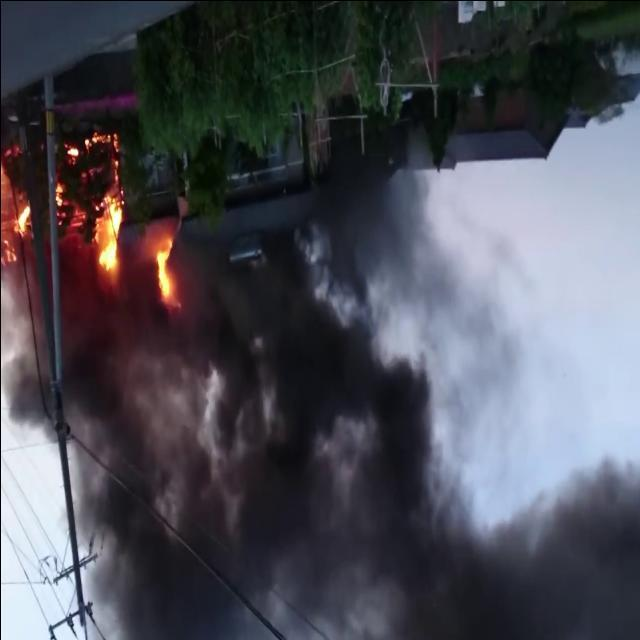Fire: (92, 198, 122, 274), (154, 239, 176, 303), (16, 204, 32, 234), (84, 134, 118, 148), (66, 144, 79, 160)
